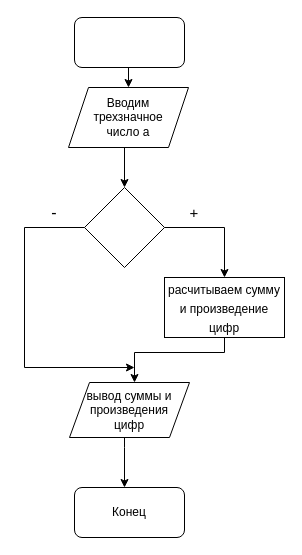
The diagram is 302 pixels wide and 555 high, and some of its shapes have lost their labels. The box of each missing label's shape, as (x1, y1, x2, y2) in pixels:
а>0: (84, 186, 164, 268)
НАЧАЛО: (74, 16, 184, 68)
